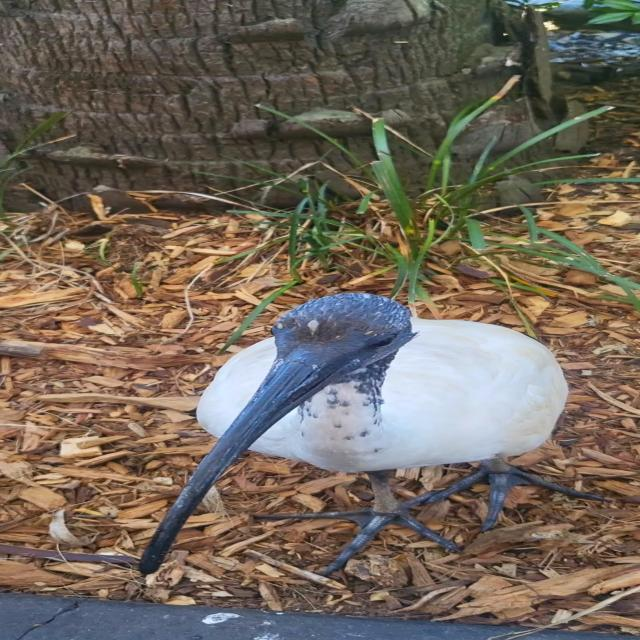Birds-Ibis: (126, 288, 620, 582)
